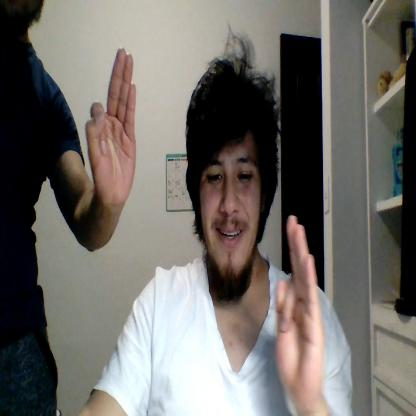F: (275, 215, 326, 409), (85, 47, 137, 209)
